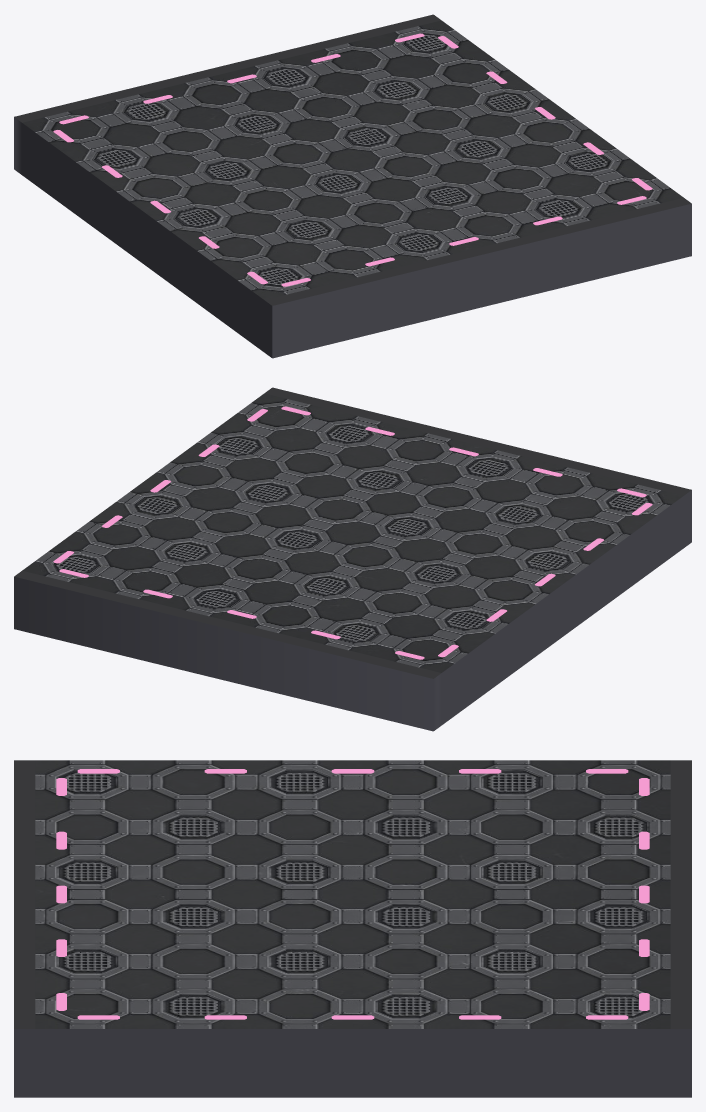
Rendered from movingplatform.glb.
3 renders of one model, top to bottom at view 1: azimuth 30°, elevation 25°; view 2: azimuth 150°, elevation 25°; view 3: azimuth 270°, elevation 25°, orthographic. The views are drawn at different scales.
Visible parts, largest first — view 1: Platform1_clear; view 2: Platform1_clear; view 3: Platform1_clear.
Boxes of the visible parts, bbox=[...] form: Platform1_clear: bbox=[14, 14, 691, 358]; Platform1_clear: bbox=[14, 387, 691, 731]; Platform1_clear: bbox=[14, 760, 691, 1097].
Size of what is drawn, in the model's own units: 6 by 0.7185 by 6.4.
Materials: 3 (3 with a texture image).
